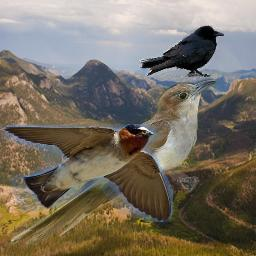Crow: (139, 25, 224, 77)
Cuckoo: (9, 79, 218, 246)
Swallow: (2, 124, 173, 222)
